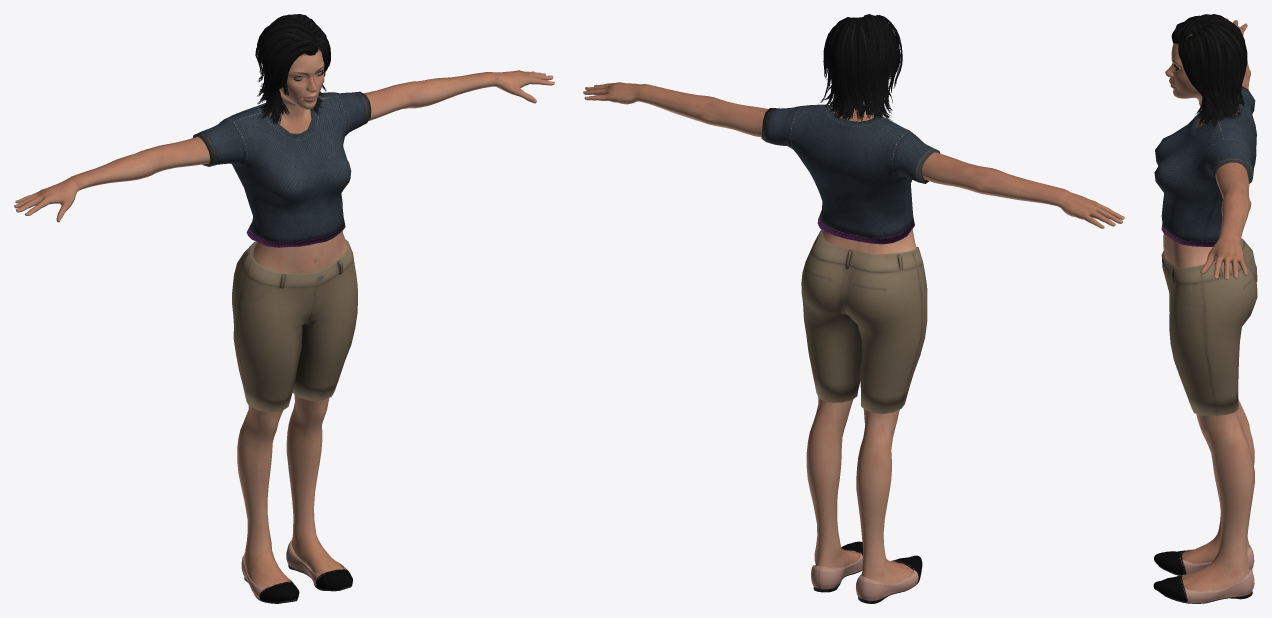
The picture shows the model from 3 angles, left to right: view 1: azimuth 30°, elevation 25°; view 2: azimuth 150°, elevation 25°; view 3: azimuth 270°, elevation 25°; orthographic projection.
Visible parts, largest first — view 1: Body, Bottoms, Tops, Hair, Shoes; view 2: Body, Bottoms, Tops, Hair, Shoes; view 3: Body, Bottoms, Tops, Hair, Shoes.
Part boxes in pixels (x1,y1,x2,y2): Body: [14, 48, 554, 588]; Bottoms: [232, 239, 357, 412]; Tops: [193, 91, 371, 247]; Hair: [255, 14, 330, 124]; Shoes: [241, 539, 352, 603]; Body: [583, 68, 1124, 584]; Bottoms: [801, 229, 927, 413]; Tops: [761, 104, 940, 244]; Hair: [820, 14, 902, 122]; Shoes: [811, 541, 922, 603]; Body: [1163, 18, 1254, 595]; Bottoms: [1161, 238, 1257, 415]; Tops: [1154, 86, 1256, 246]; Hair: [1171, 14, 1247, 128]; Shoes: [1153, 545, 1254, 603].
Bounding box in the file's own units: 179 × 180 × 30.02.
1 material, 1 textured.
